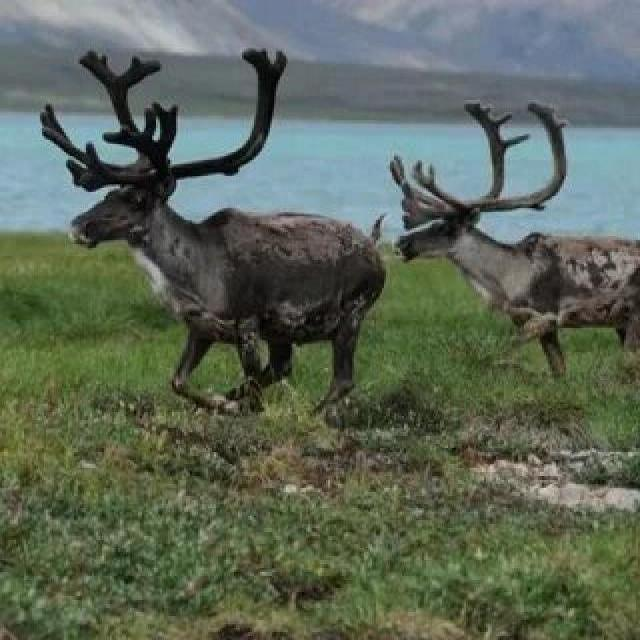deer: (18, 42, 452, 422), (365, 130, 640, 347)
